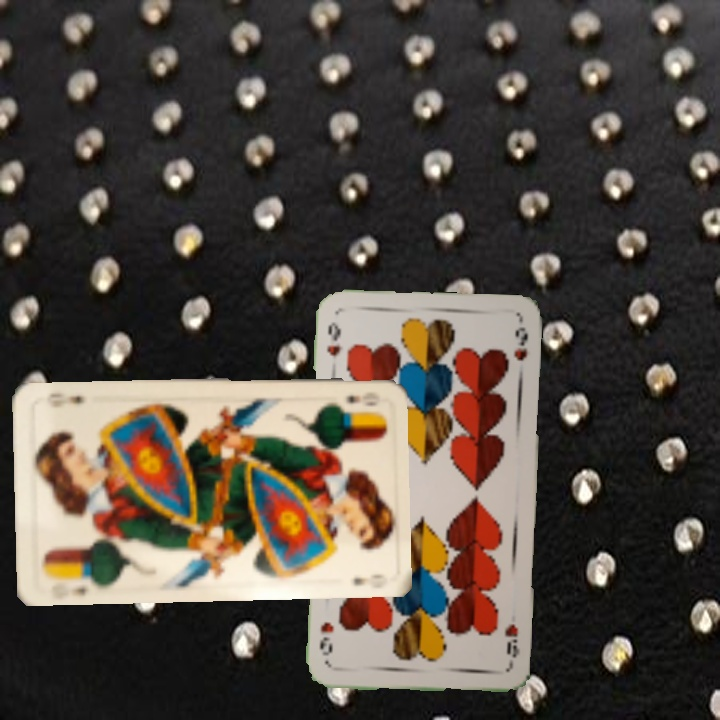EO: (46, 572, 98, 600), (342, 387, 383, 406)
H9: (501, 619, 523, 669), (323, 318, 344, 359)
